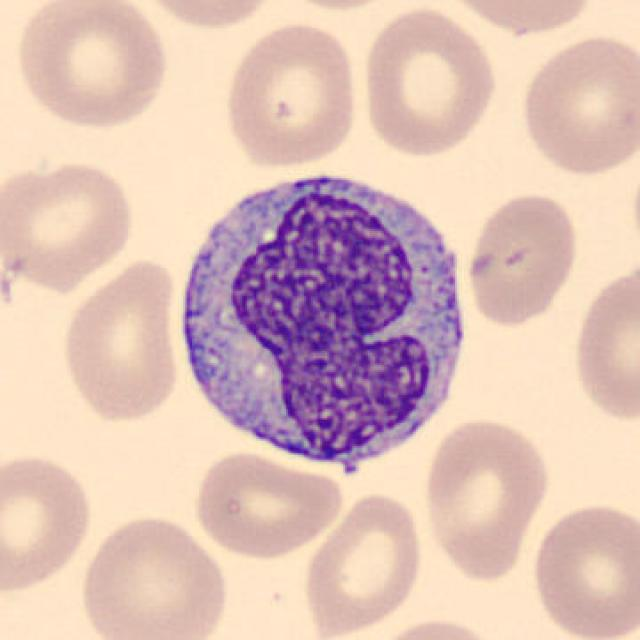Monocyte: (164, 152, 478, 484)
RBC: (418, 412, 554, 584), (358, 3, 502, 160), (55, 256, 187, 427), (220, 18, 362, 171), (11, 0, 172, 132), (75, 511, 231, 640), (300, 488, 426, 638), (2, 155, 138, 293), (516, 30, 638, 180), (188, 448, 345, 560), (461, 188, 582, 329), (526, 497, 638, 640), (0, 448, 96, 598), (567, 257, 638, 428), (439, 0, 601, 39), (129, 0, 286, 33), (366, 613, 508, 640), (265, 0, 412, 14)
